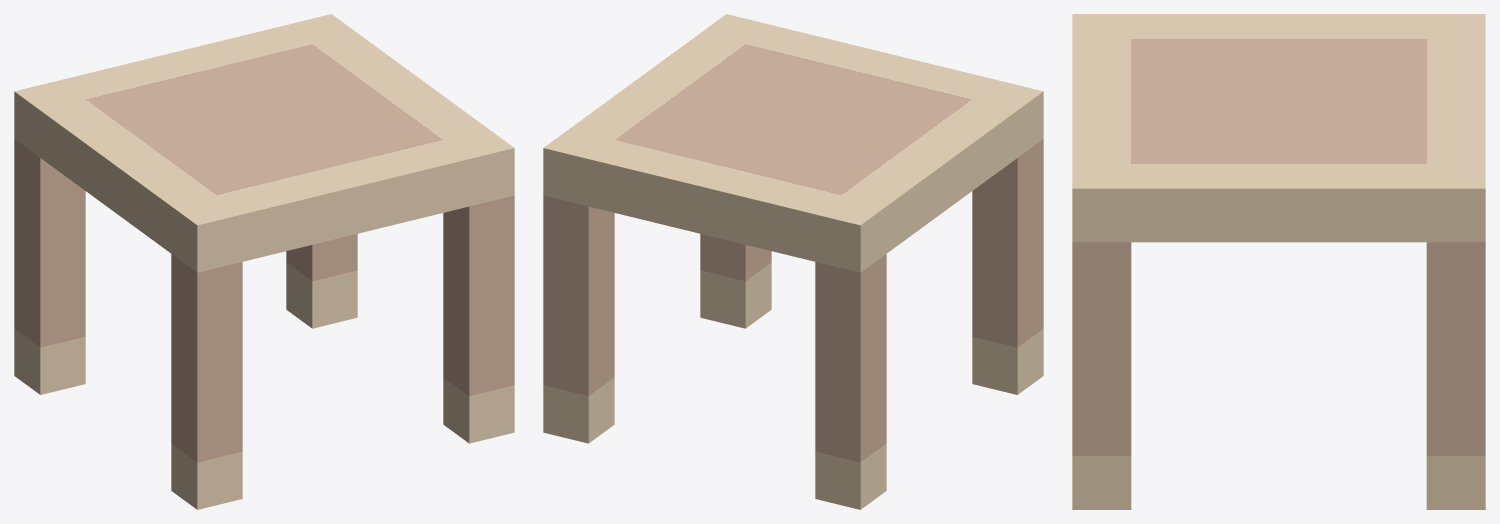
File: stol.dae
3 views of the same model, side by side, from view 1: azimuth 30°, elevation 25°; view 2: azimuth 150°, elevation 25°; view 3: azimuth 270°, elevation 25° (orthographic). The views are drawn at different scales.
Parts seen in each view (by area): view 1: stol; view 2: stol; view 3: stol.
Boxes of the visible parts, bbox=[...] form: stol: bbox=[14, 14, 514, 509]; stol: bbox=[543, 14, 1043, 509]; stol: bbox=[1072, 14, 1485, 509].
Bounding box in the file's own units: 7 × 6 × 7.
Materials: 1 (1 with a texture image).
